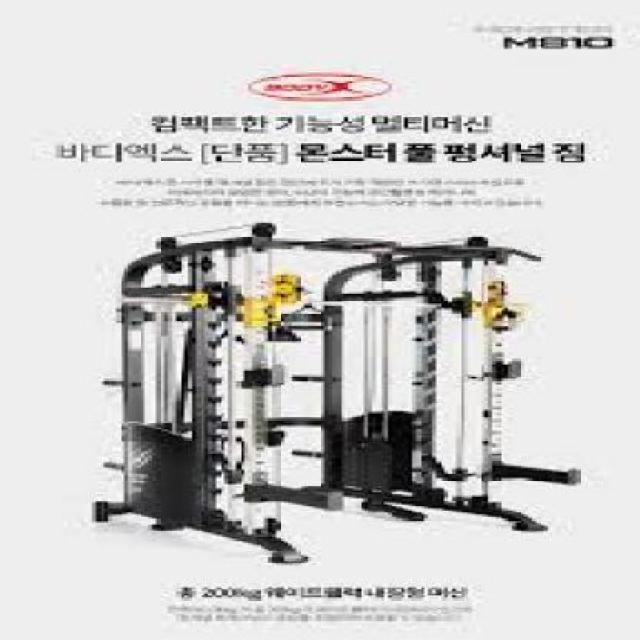smith machine: (93, 220, 584, 566)
